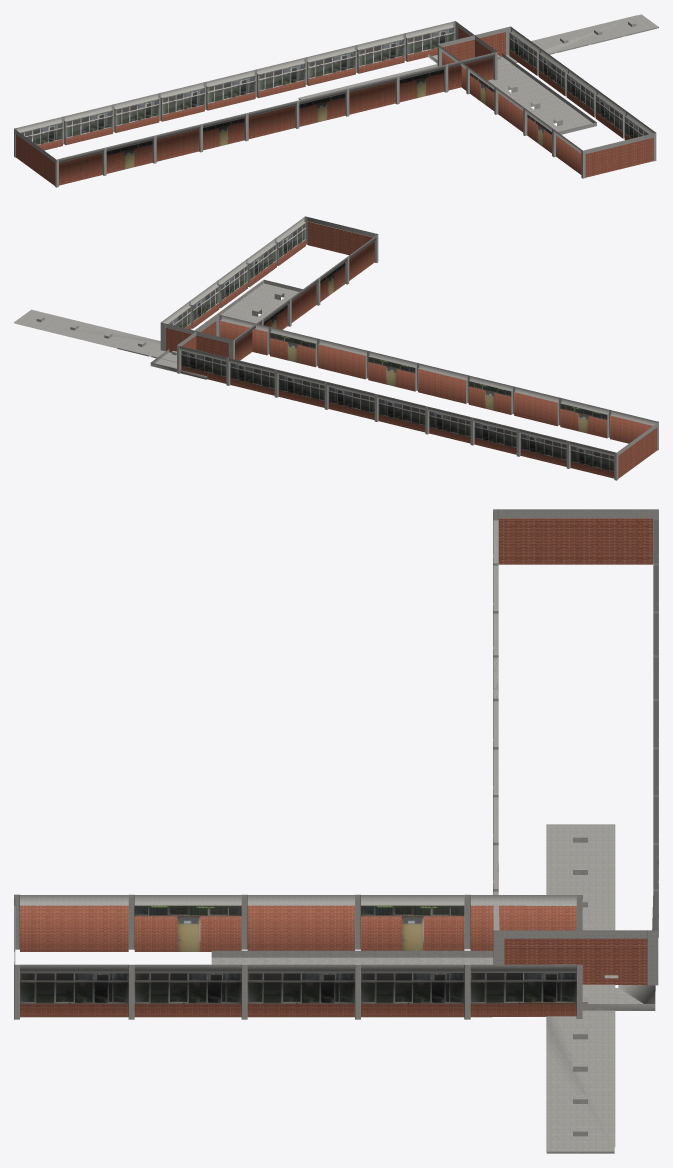
3 views of the same model, one above another, from view 1: azimuth 30°, elevation 25°; view 2: azimuth 150°, elevation 25°; view 3: azimuth 270°, elevation 25° (orthographic). The views are drawn at different scales.
Visible parts, largest first — view 1: EdifPAbellon12, EdifPAbellon11, TechoPasilloPabellon11, Techo; view 2: EdifPAbellon12, EdifPAbellon11, Techo, TechoPasilloPabellon11; view 3: EdifPAbellon11, EdifPAbellon12, Techo, TechoPasilloPabellon11.
Part boxes in pixels (x1,y1,x2,y2): EdifPAbellon12: (14, 21, 497, 187); EdifPAbellon11: (437, 26, 656, 178); TechoPasilloPabellon11: (428, 53, 596, 134); Techo: (298, 14, 658, 99); EdifPAbellon12: (177, 314, 658, 480); EdifPAbellon11: (160, 216, 378, 360); Techo: (14, 309, 370, 392); TechoPasilloPabellon11: (150, 279, 302, 379); EdifPAbellon11: (14, 894, 582, 1019); EdifPAbellon12: (493, 509, 658, 985); Techo: (546, 824, 615, 1153); TechoPasilloPabellon11: (211, 950, 655, 1010).
Size of the model in its own units: 9803 by 440 by 4545.
